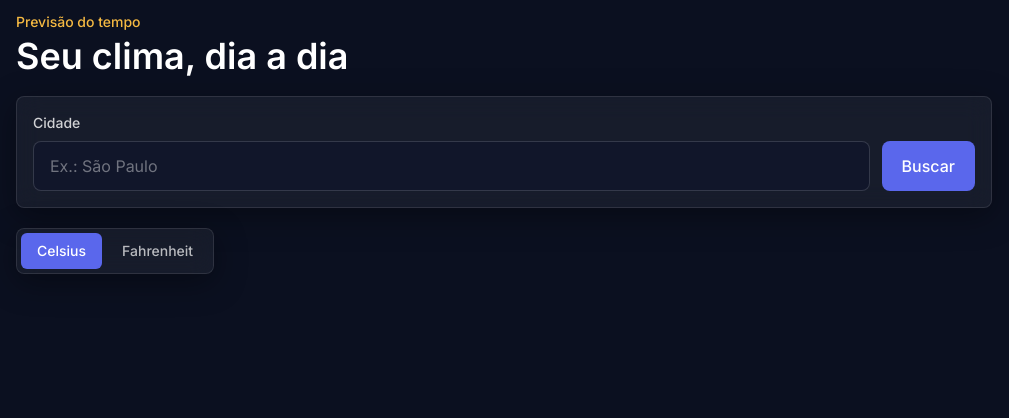
App › keeps only the most recent search while an earlier one is pending
This screenshot has width=1009, height=418.
Type "São Paulo" into the field labelled "Cidade" at coordinates (451, 166), box 33,141 -> 870,191
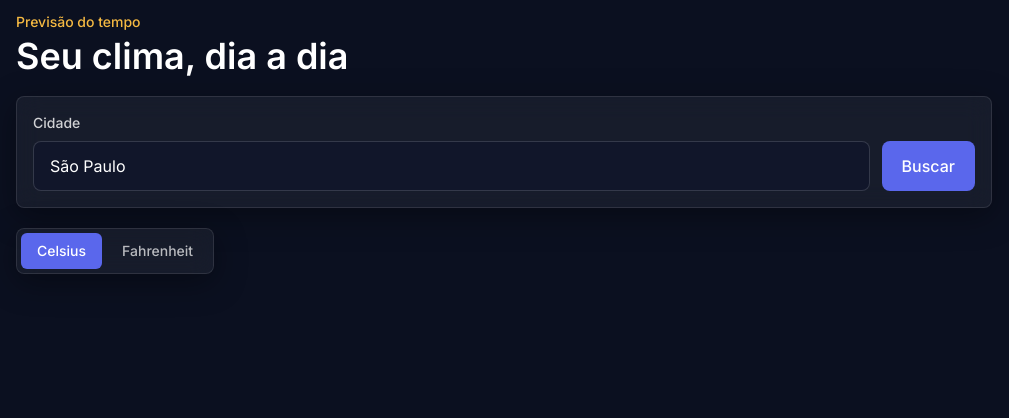
Click the button "Buscar" at coordinates (928, 166), box 882,141 -> 975,191
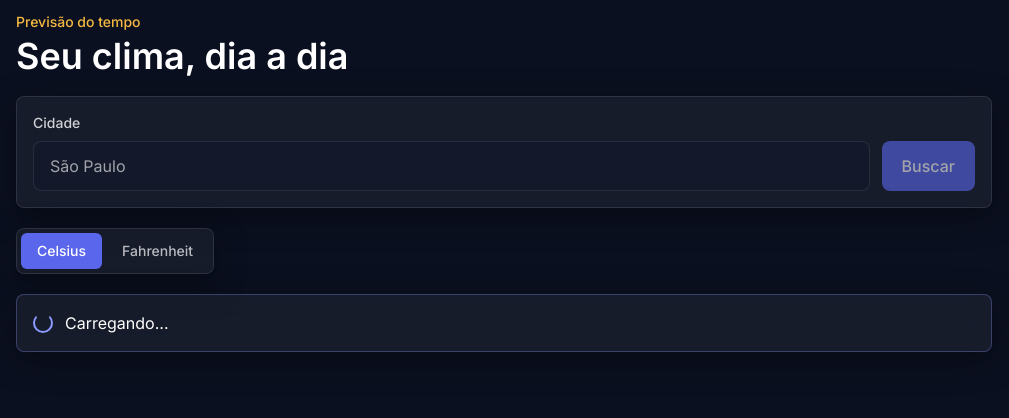
Replace the text in the field labelled "Cidade" with "Lisboa" at coordinates (451, 166), box 33,141 -> 870,191
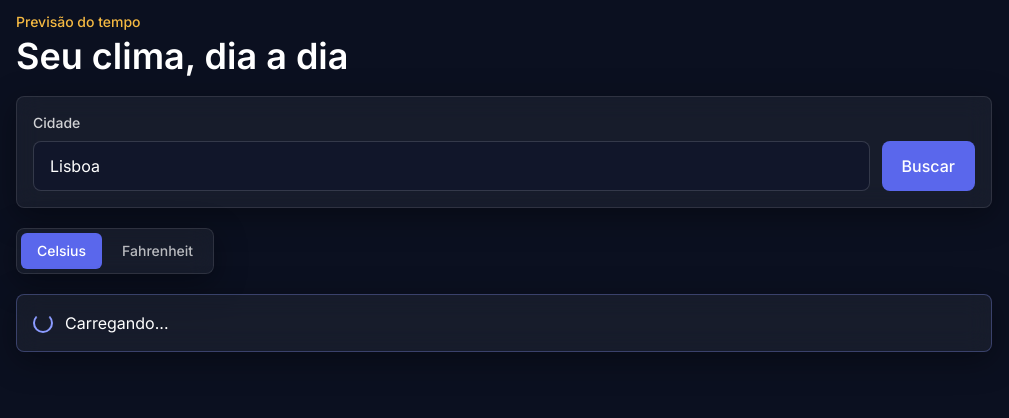
Click the button "Buscar" at coordinates (928, 166), box 882,141 -> 975,191
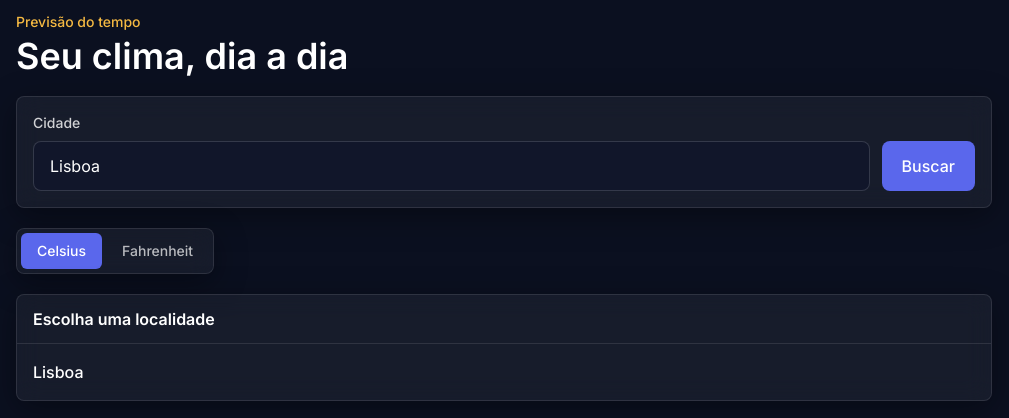
Expected: the button "São Paulo" is not shown
Expected: the button "Lisboa" is shown, 21,348 -> 987,396
